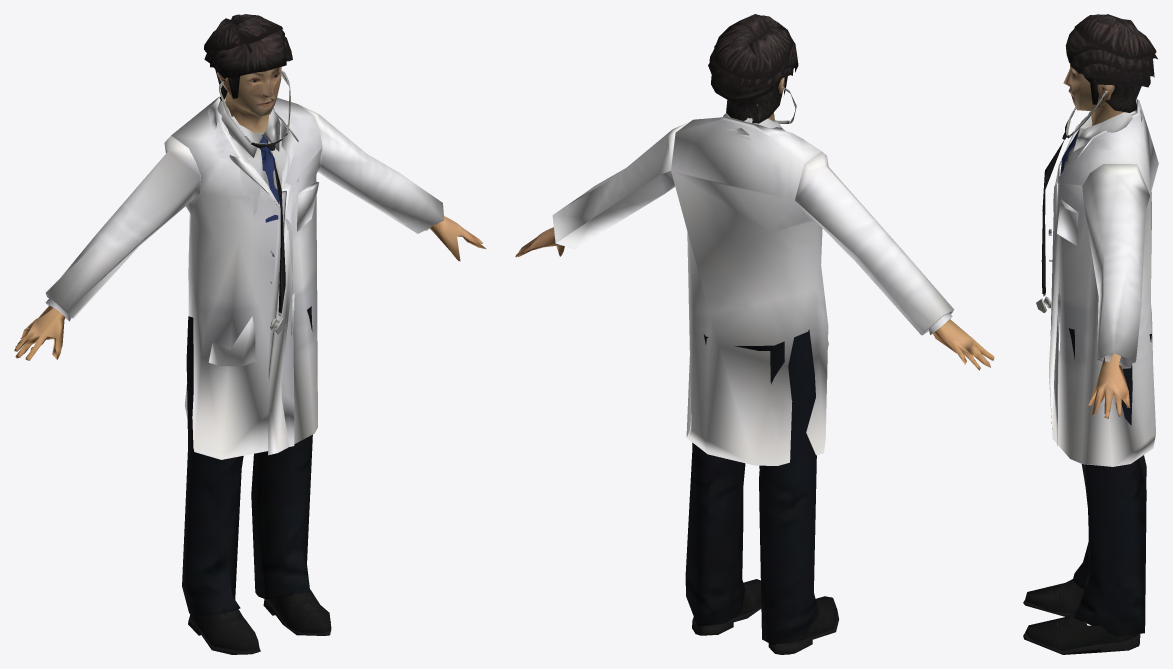
File: Doctor.glb
3 views of the same model, side by side, from view 1: azimuth 30°, elevation 25°; view 2: azimuth 150°, elevation 25°; view 3: azimuth 270°, elevation 25° (orthographic).
Parts seen in each view (by area): view 1: 3d66-Editable_mesh-21268029-005, 3d66-Editable_mesh-21268029-008, 3d66-Editable_mesh-21268029-002, 3d66-Editable_mesh-21268029-009, 3d66-Editable_mesh-21268029-010, 3d66-Editable_mesh-21268029-007, 3d66-Editable_mesh-21268029-006, 3d66-Editable_mesh-21268029-004; view 2: 3d66-Editable_mesh-21268029-005, 3d66-Editable_mesh-21268029-008, 3d66-Editable_mesh-21268029-002, 3d66-Editable_mesh-21268029-009, 3d66-Editable_mesh-21268029-006; view 3: 3d66-Editable_mesh-21268029-005, 3d66-Editable_mesh-21268029-008, 3d66-Editable_mesh-21268029-002, 3d66-Editable_mesh-21268029-009, 3d66-Editable_mesh-21268029-006, 3d66-Editable_mesh-21268029-007, 3d66-Editable_mesh-21268029-010, 3d66-Editable_mesh-21268029-004.
Boxes of the visible parts, x1,y1,x2,y2 form: 3d66-Editable_mesh-21268029-005: (45, 96, 444, 459); 3d66-Editable_mesh-21268029-008: (182, 306, 312, 615); 3d66-Editable_mesh-21268029-002: (204, 14, 292, 100); 3d66-Editable_mesh-21268029-009: (188, 589, 331, 654); 3d66-Editable_mesh-21268029-010: (217, 96, 299, 222); 3d66-Editable_mesh-21268029-007: (216, 67, 281, 133); 3d66-Editable_mesh-21268029-006: (14, 216, 486, 360); 3d66-Editable_mesh-21268029-004: (219, 70, 290, 334); 3d66-Editable_mesh-21268029-005: (552, 116, 954, 465); 3d66-Editable_mesh-21268029-008: (685, 329, 819, 645); 3d66-Editable_mesh-21268029-002: (708, 14, 798, 123); 3d66-Editable_mesh-21268029-009: (692, 579, 839, 654); 3d66-Editable_mesh-21268029-006: (515, 227, 994, 370); 3d66-Editable_mesh-21268029-005: (1048, 99, 1158, 466); 3d66-Editable_mesh-21268029-008: (1068, 328, 1151, 636); 3d66-Editable_mesh-21268029-002: (1065, 14, 1157, 112); 3d66-Editable_mesh-21268029-009: (1023, 579, 1140, 654); 3d66-Editable_mesh-21268029-006: (1088, 353, 1130, 418); 3d66-Editable_mesh-21268029-007: (1063, 63, 1124, 125); 3d66-Editable_mesh-21268029-010: (1060, 100, 1143, 188); 3d66-Editable_mesh-21268029-004: (1036, 91, 1107, 312).
Size of the model in its own units: 0.8062 by 0.9998 by 0.202.
Materials: 9 (9 with a texture image).
